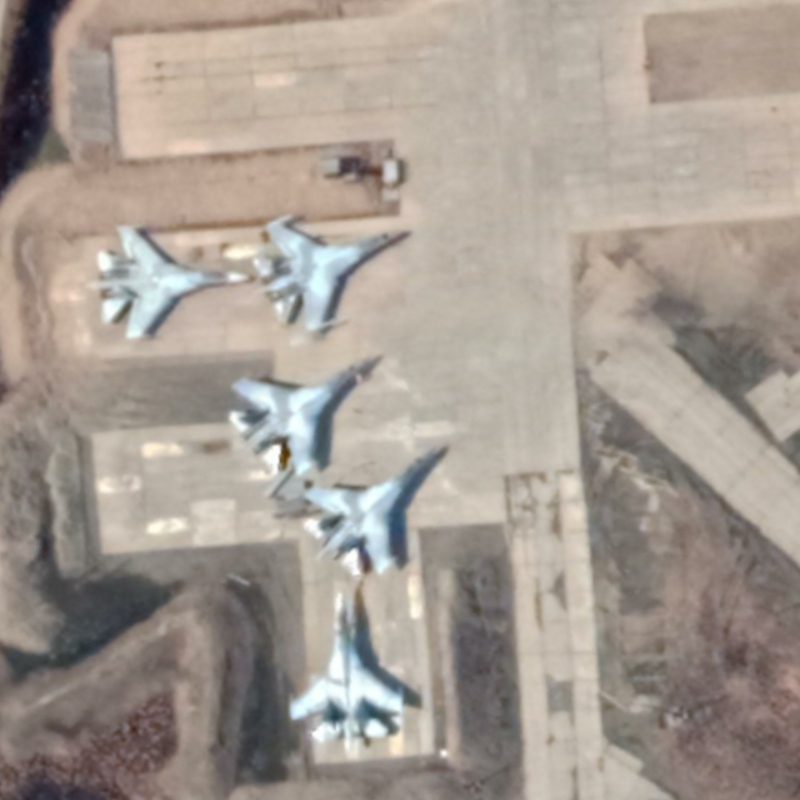A1: (286, 588, 408, 759), (298, 444, 450, 581), (249, 211, 414, 337), (83, 222, 255, 341), (228, 354, 385, 482)
